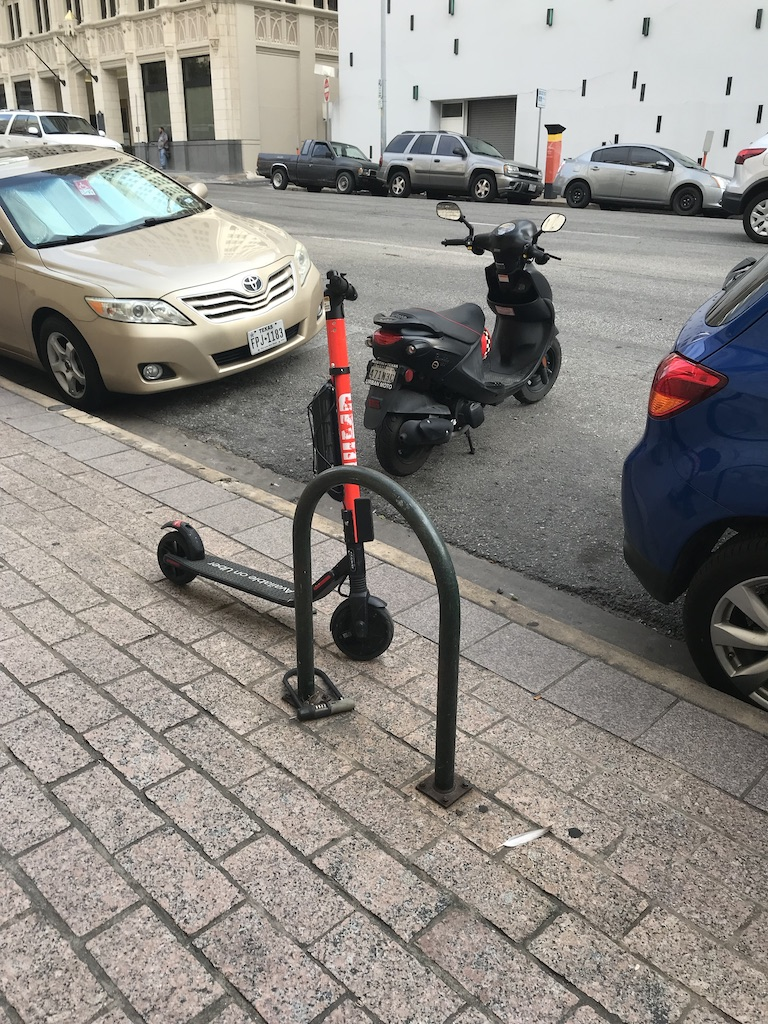scooter: (309, 486, 394, 662), (155, 519, 295, 609), (308, 274, 364, 475)
